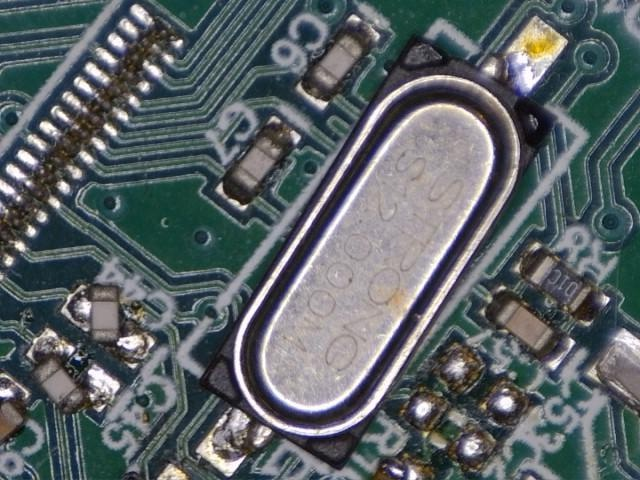pcb_defect: (195, 15, 568, 479), (25, 328, 122, 417), (60, 284, 156, 370), (0, 371, 32, 444)
